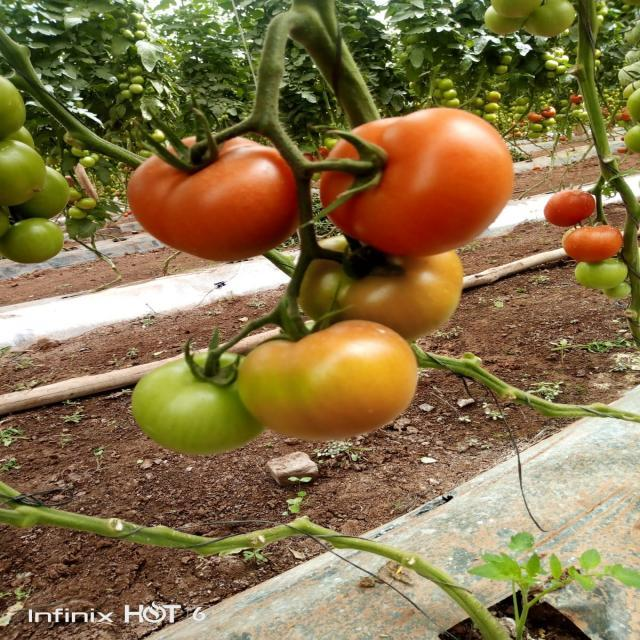Ripe Tomato: (307, 104, 512, 258), (98, 130, 302, 260), (552, 230, 627, 272), (544, 186, 595, 222)
Unripe Tomato: (226, 318, 418, 444), (288, 244, 491, 338), (114, 344, 270, 452), (0, 222, 75, 266), (0, 148, 48, 198), (0, 70, 35, 130), (29, 170, 75, 212)
